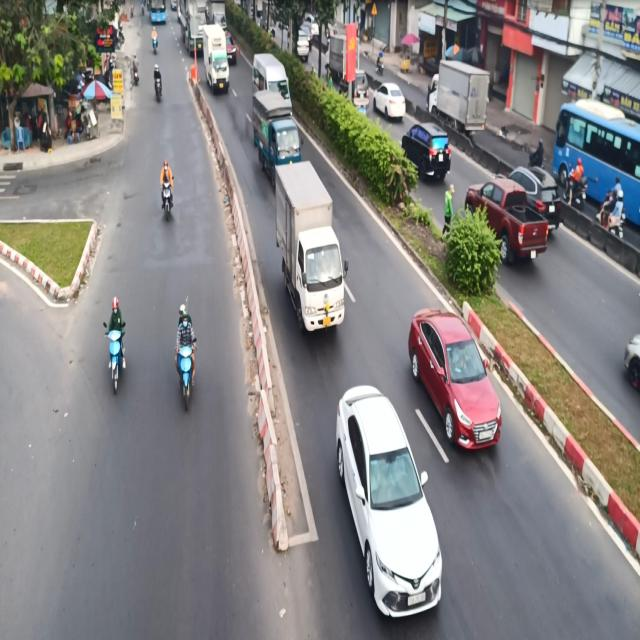car: (329, 378, 446, 640), (406, 297, 503, 463)
motor: (170, 295, 202, 415), (102, 292, 130, 397), (161, 162, 178, 229)
truck: (270, 160, 354, 344), (249, 94, 303, 186)
